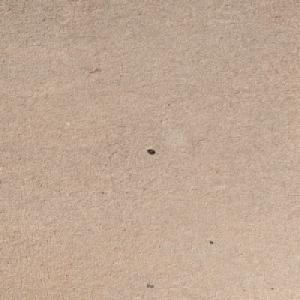Nut: (146, 148, 154, 153)
